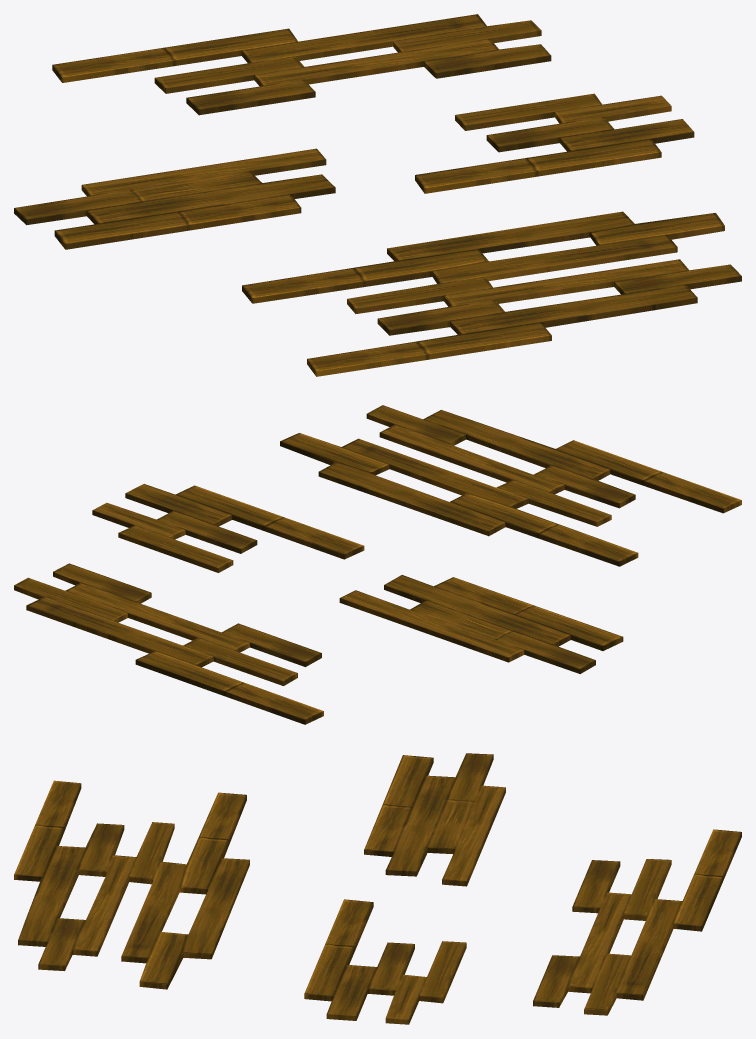
The model's file is HTOWN01_CHICKENCOOPCREAKBOARDS.fbx.
3 renders of one model, top to bottom at view 1: azimuth 30°, elevation 25°; view 2: azimuth 150°, elevation 25°; view 3: azimuth 270°, elevation 25°, orthographic. The views are drawn at different scales.
Parts seen in each view (by area): view 1: HTOWN01_CHICKENCOOPCREAKBOARDS; view 2: HTOWN01_CHICKENCOOPCREAKBOARDS; view 3: HTOWN01_CHICKENCOOPCREAKBOARDS.
Part boxes in pixels (x1,y1,x2,y2): HTOWN01_CHICKENCOOPCREAKBOARDS: [14, 14, 741, 376]; HTOWN01_CHICKENCOOPCREAKBOARDS: [14, 405, 741, 724]; HTOWN01_CHICKENCOOPCREAKBOARDS: [14, 753, 741, 1024].
Bounding box in the file's own units: 55056 × 470 × 63531.
Materials: 1 (1 with a texture image).
